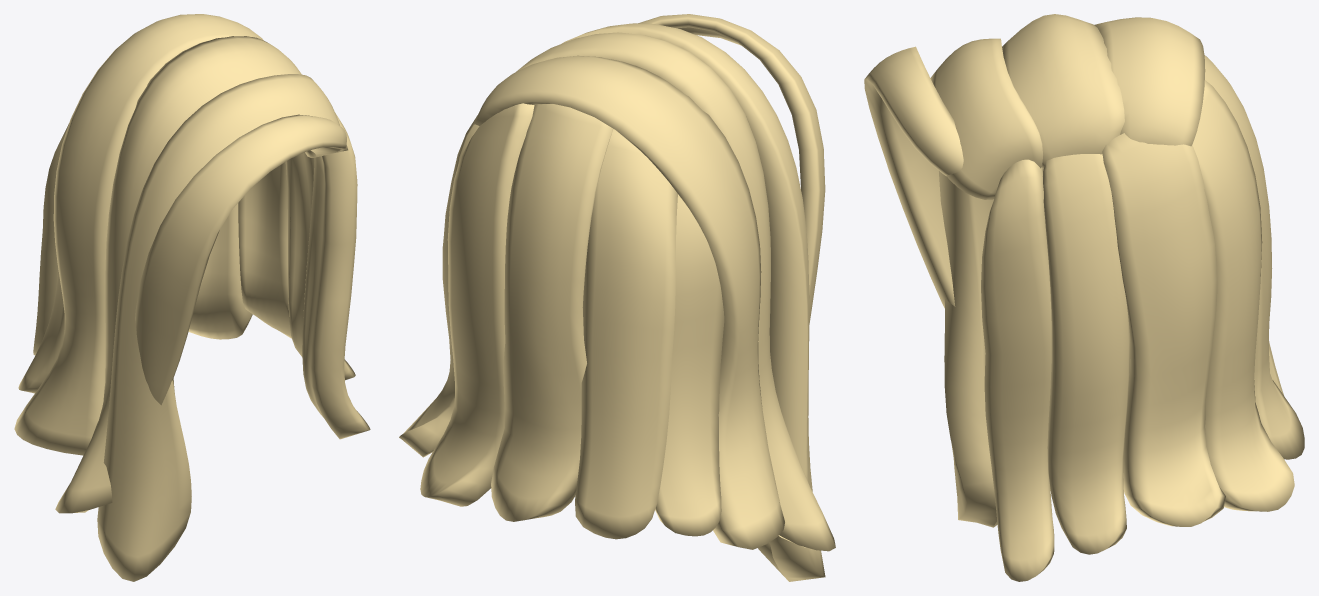
3 views of the same model, side by side, from view 1: azimuth 30°, elevation 25°; view 2: azimuth 150°, elevation 25°; view 3: azimuth 270°, elevation 25° (orthographic). The views are drawn at different scales.
Visible parts, largest first — view 1: 5; view 2: 5; view 3: 5.
Boxes of the visible parts, x1=… form: 5: x1=14, y1=14, x2=370, y2=581; 5: x1=399, y1=14, x2=835, y2=581; 5: x1=864, y1=14, x2=1304, y2=581.
Bounding box in the file's own units: 6832 × 9680 × 6864.
